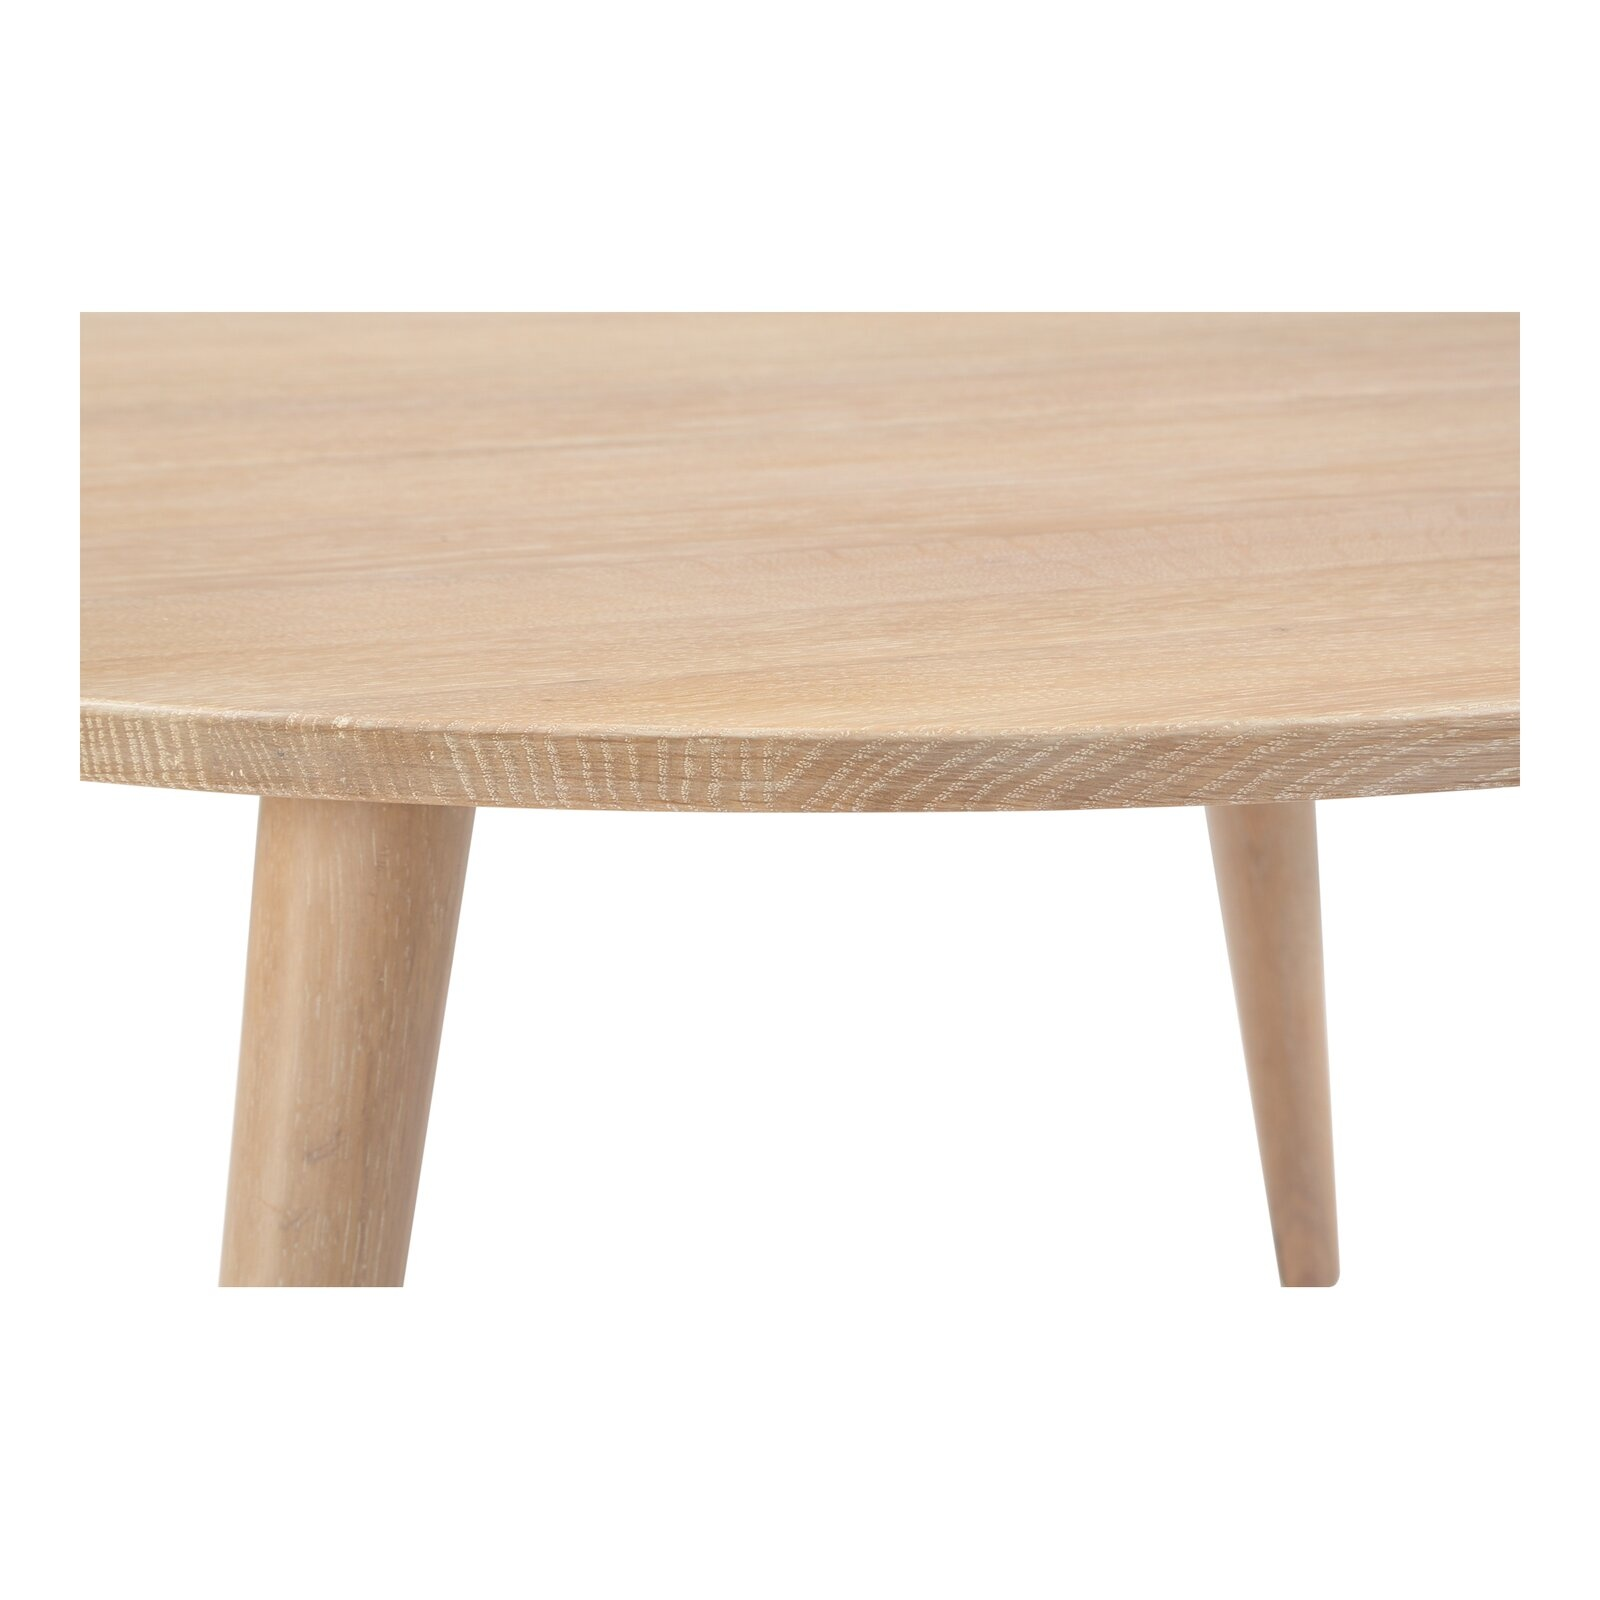obstacle: (82, 314, 1516, 1285)
